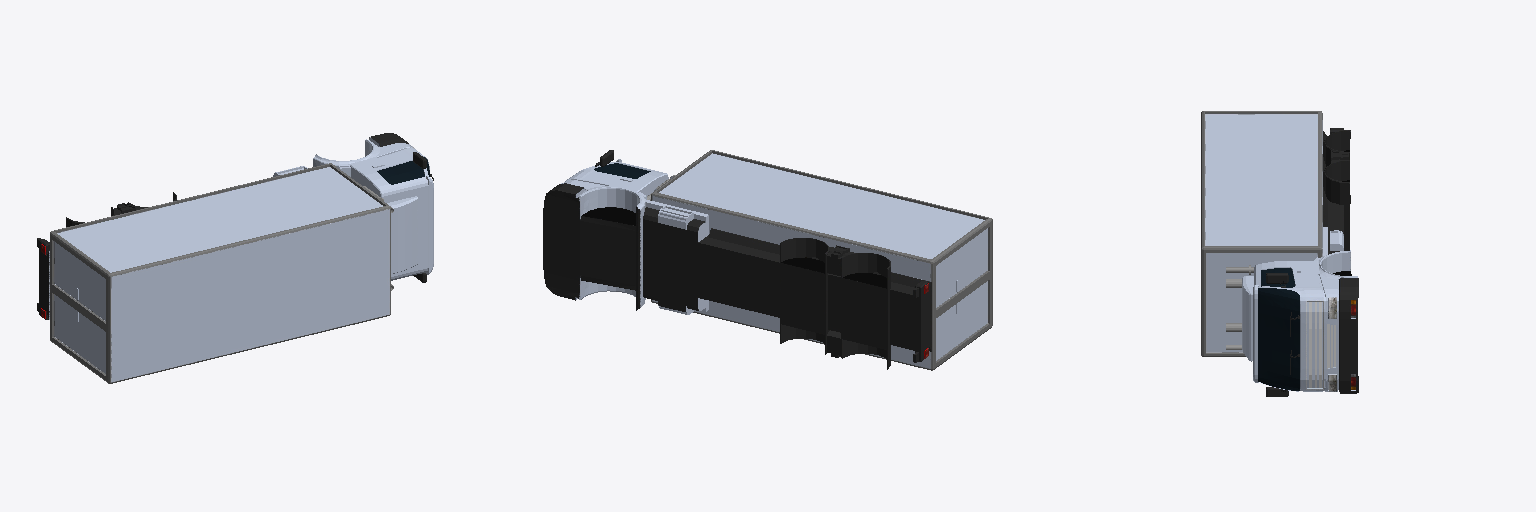
3 views of the same model, side by side, from view 1: azimuth 30°, elevation 25°; view 2: azimuth 150°, elevation 25°; view 3: azimuth 270°, elevation 25° (orthographic).
Visible parts, largest first — view 1: Truck_Chassis_0409; view 2: Truck_Chassis_0409; view 3: Truck_Chassis_0409.
Boxes of the visible parts, x1=… form: Truck_Chassis_0409: x1=37, y1=133, x2=433, y2=383; Truck_Chassis_0409: x1=543, y1=150, x2=992, y2=370; Truck_Chassis_0409: x1=1201, y1=111, x2=1358, y2=396.
Bounding box in the file's own units: 11.48 × 3.64 × 4.21.
Materials: 3 (3 with a texture image).